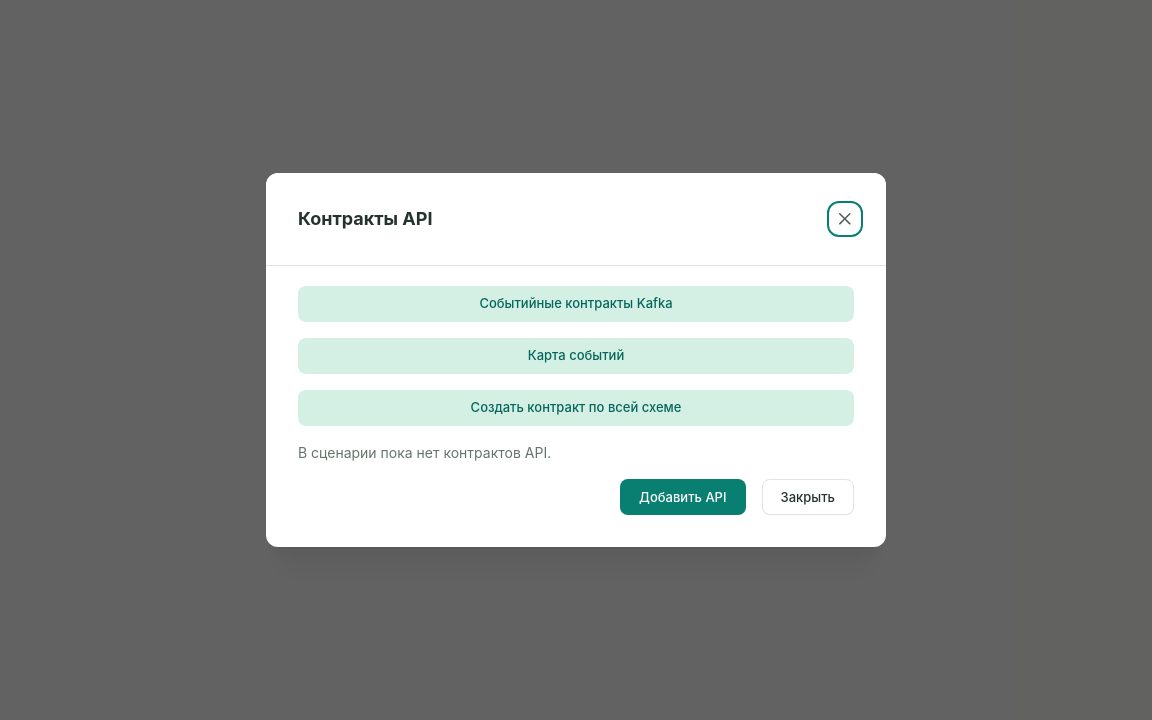
opens the map and navigates to the canonical event editor without stacking modals
The width and height of the screenshot is (1152, 720).
Click the button "Карта событий" at (576, 356), box [298,338,854,374]
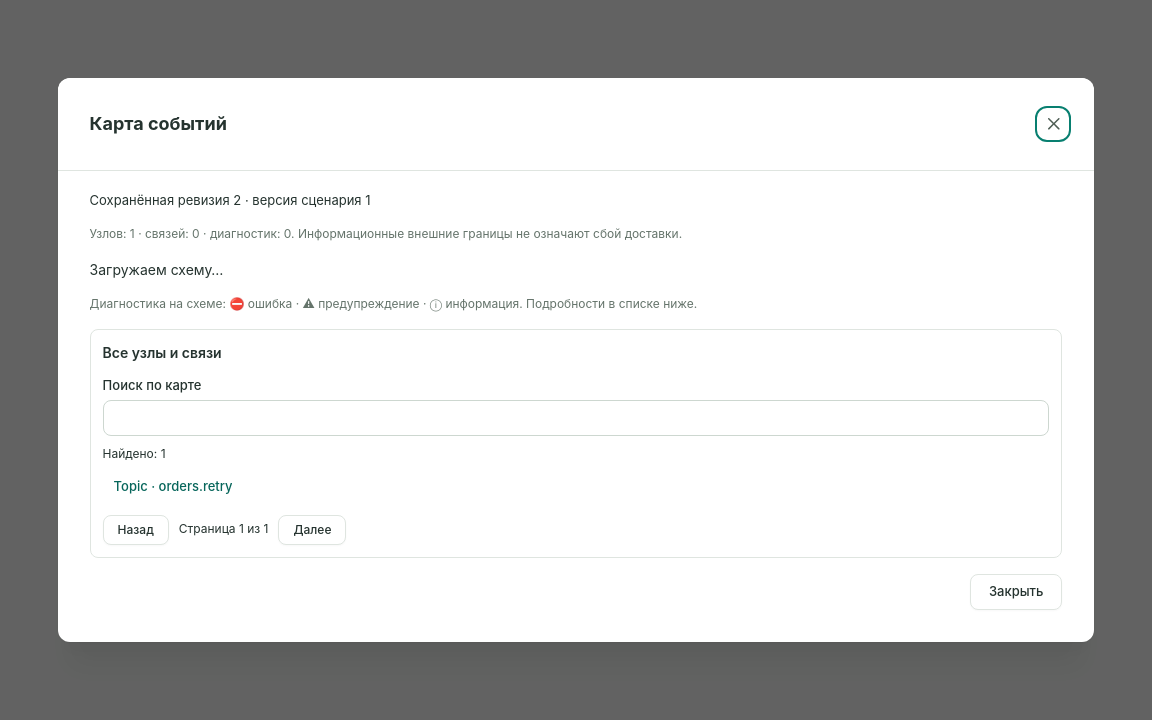
Click the button "Topic · orders.retry" at (173, 486), box [103,473,1049,505]
(page scrolled)
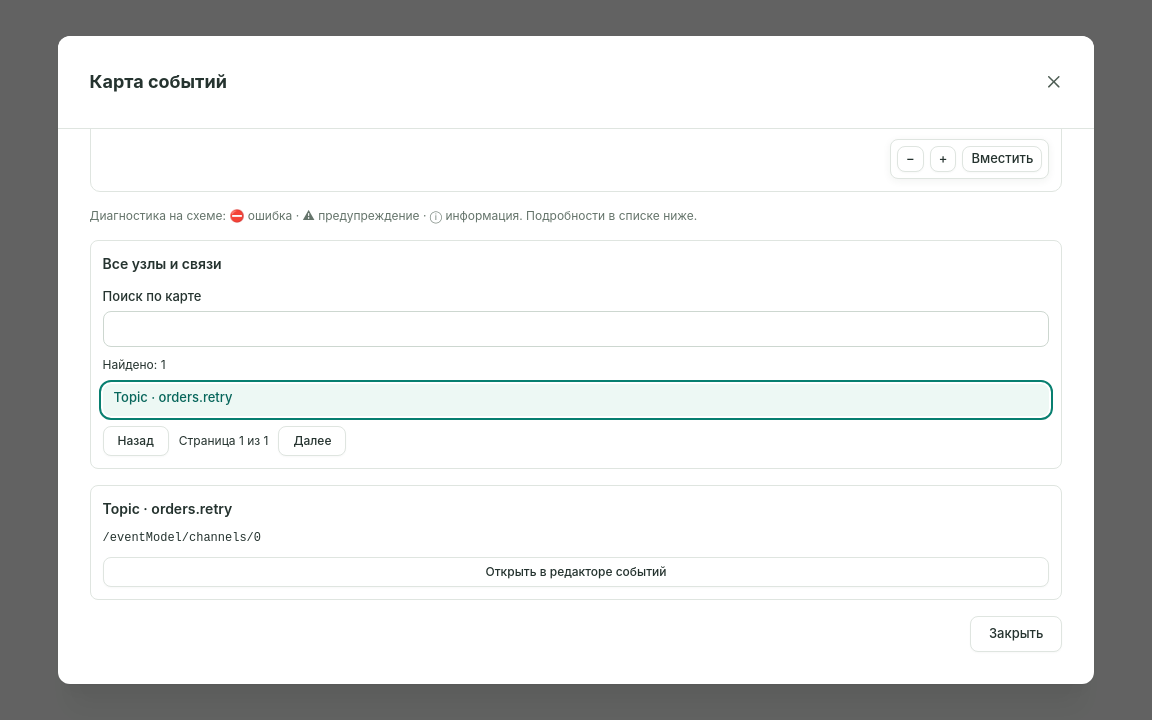
Click the button "Открыть в редакторе событий" at (576, 572), box [103,556,1049,586]
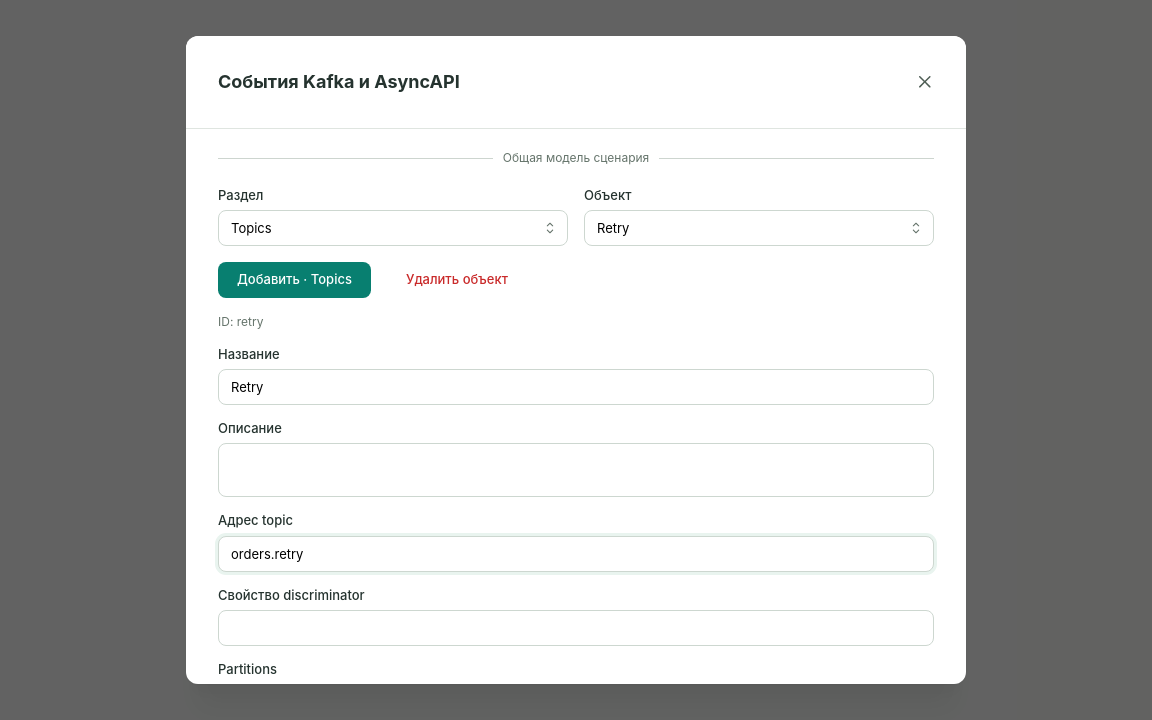
Expected: the dialog "События Kafka и AsyncAPI" is shown
Expected: the field labelled "Адрес topic" holds "orders.retry", [218,536,934,572]
